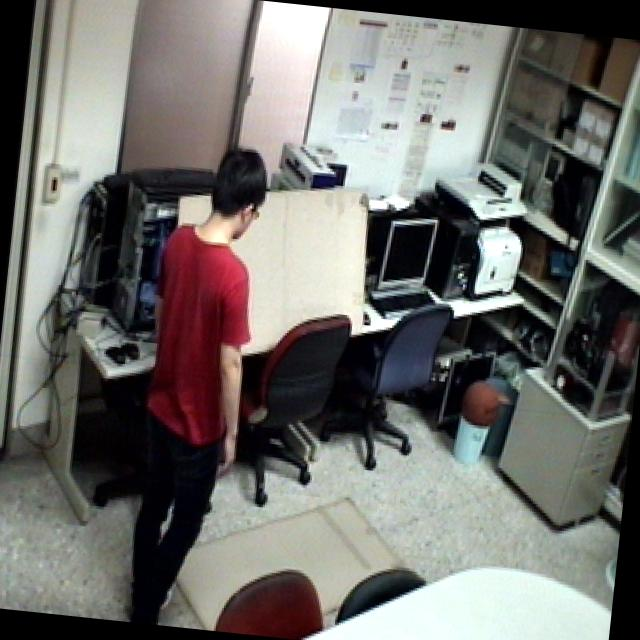stand: (111, 131, 292, 634)
